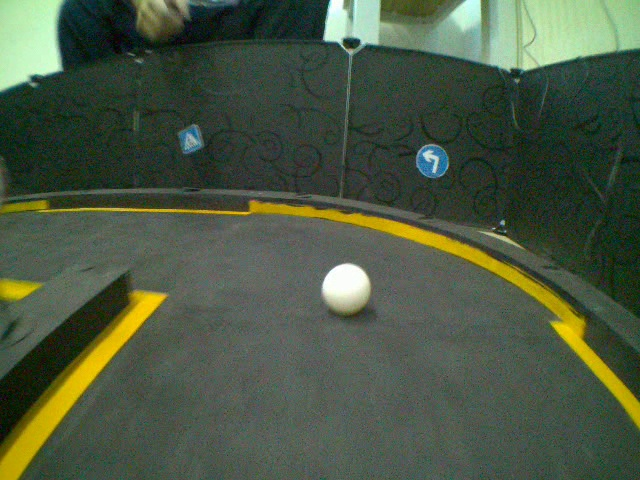ball: (320, 261, 373, 317)
